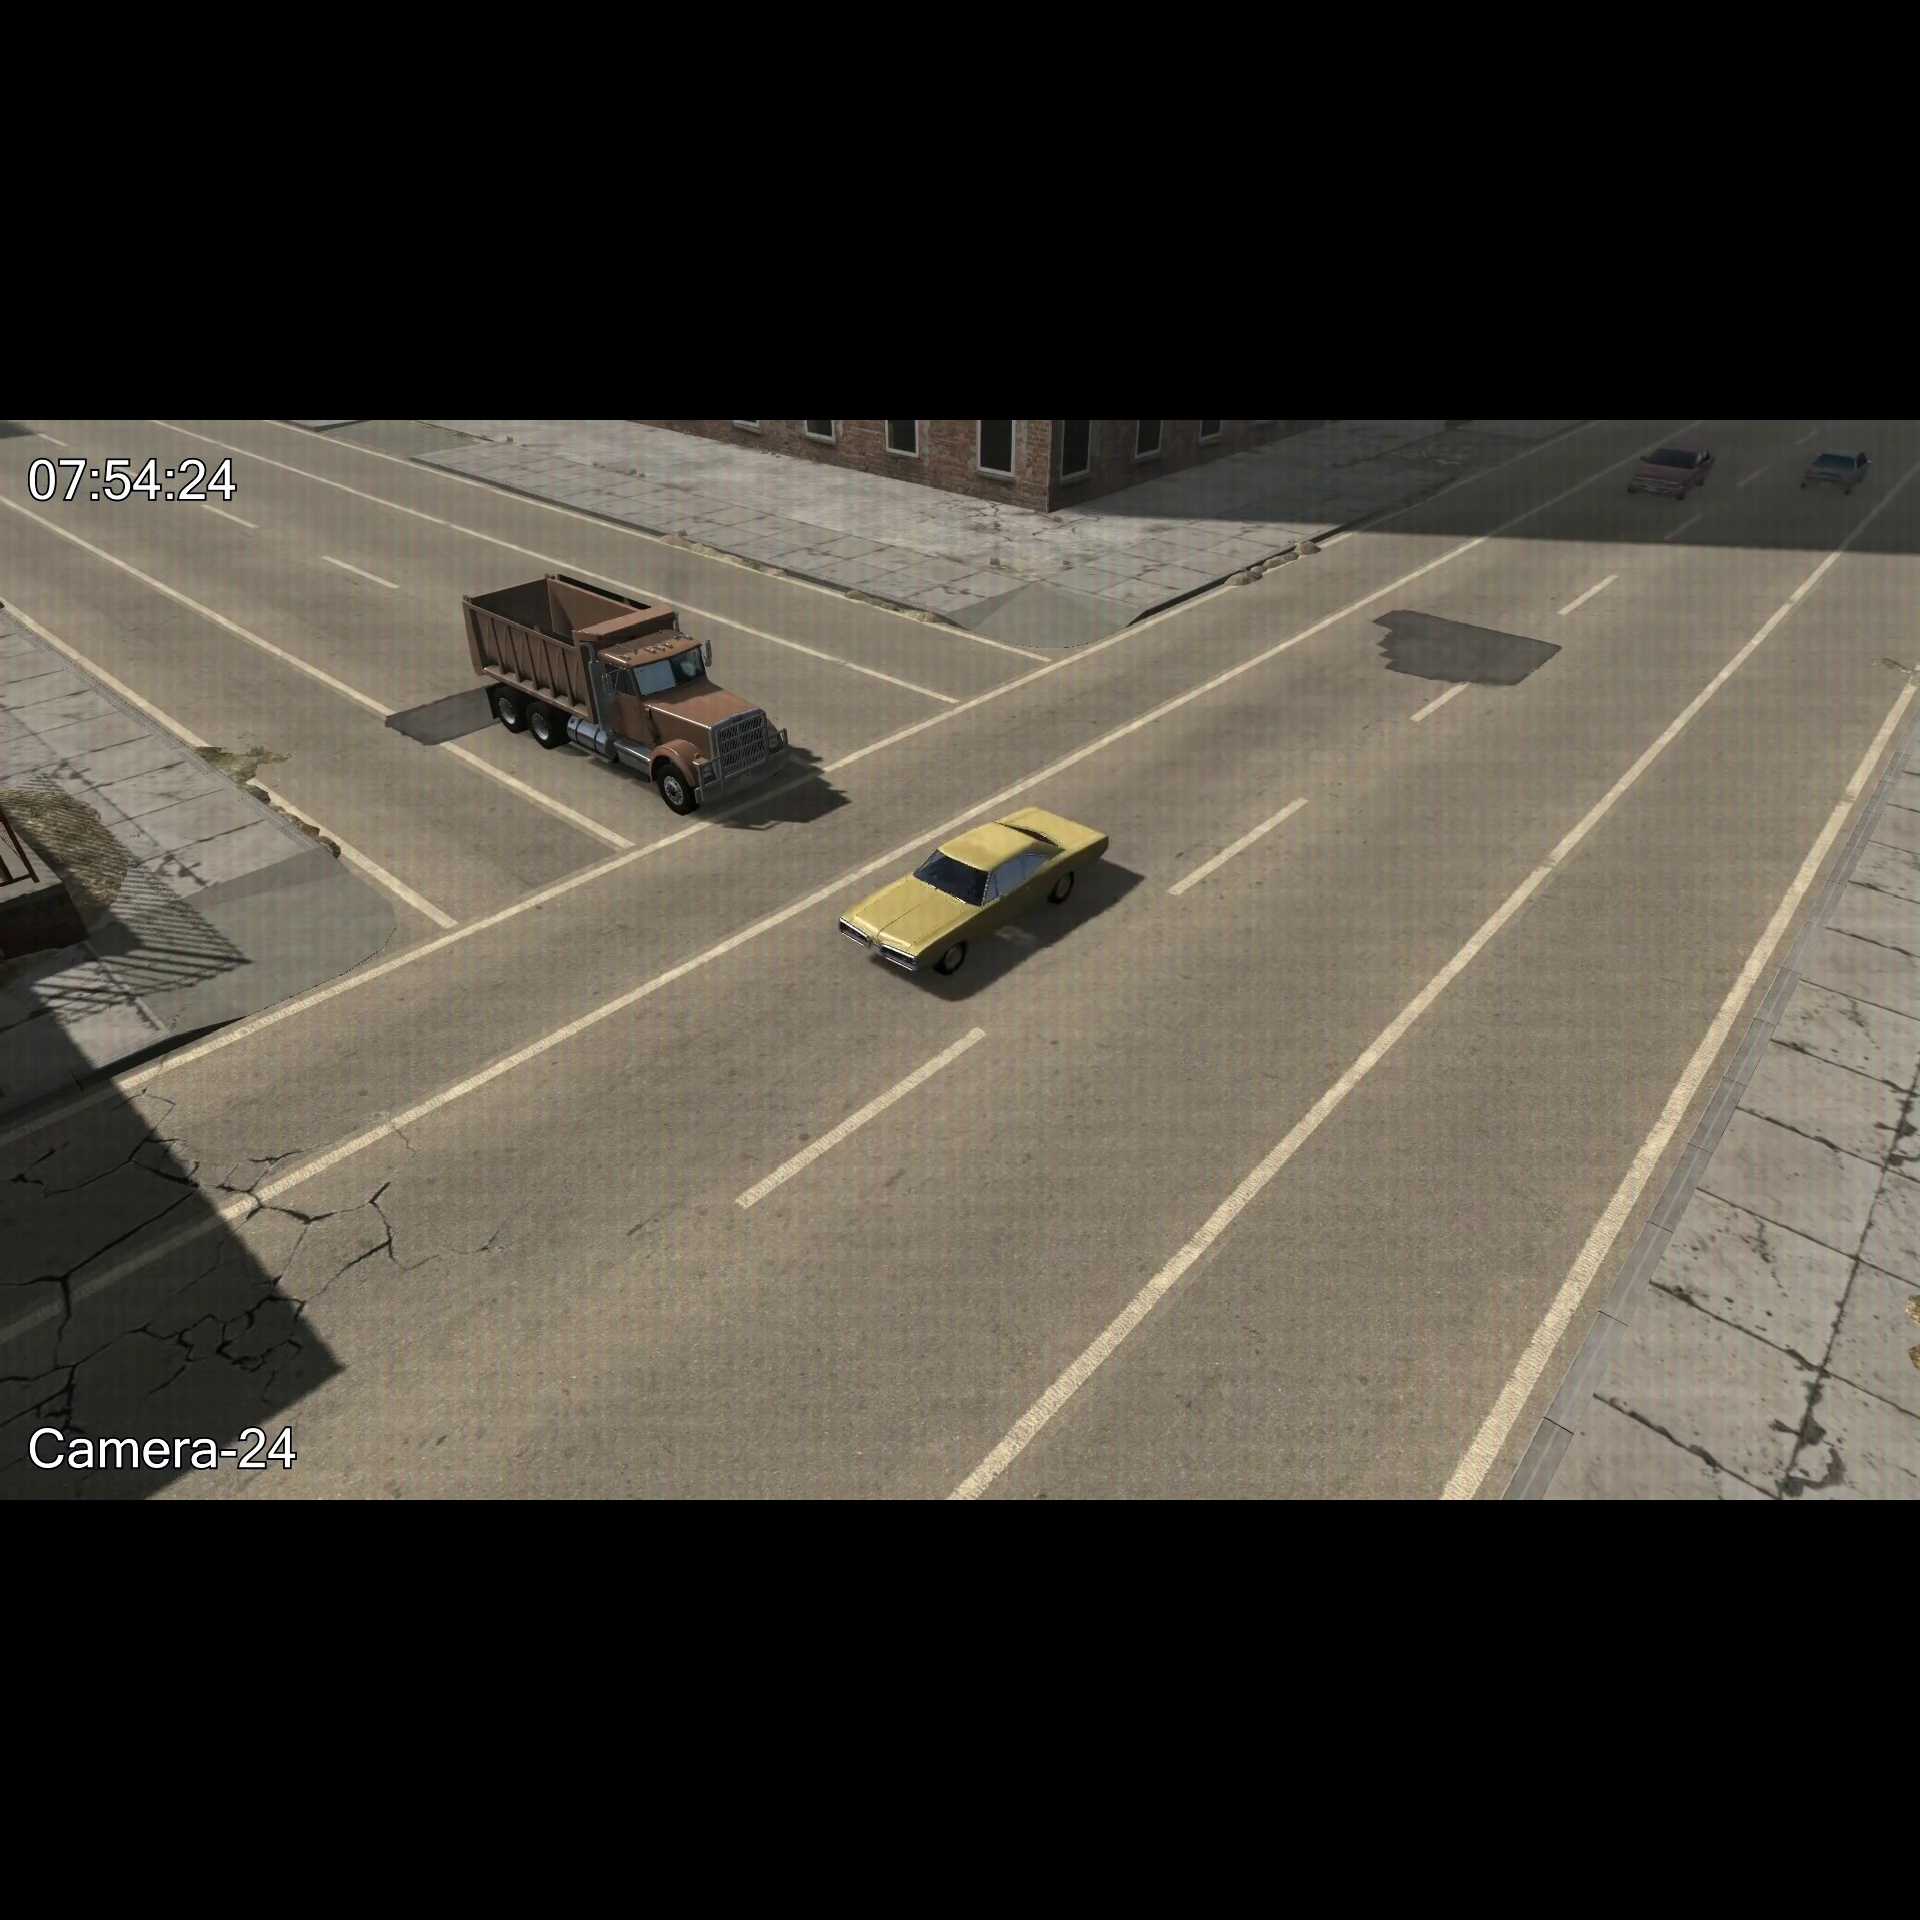vehicle: (457, 564, 795, 816), (833, 795, 1118, 979), (1623, 441, 1727, 506), (1800, 445, 1880, 501)
